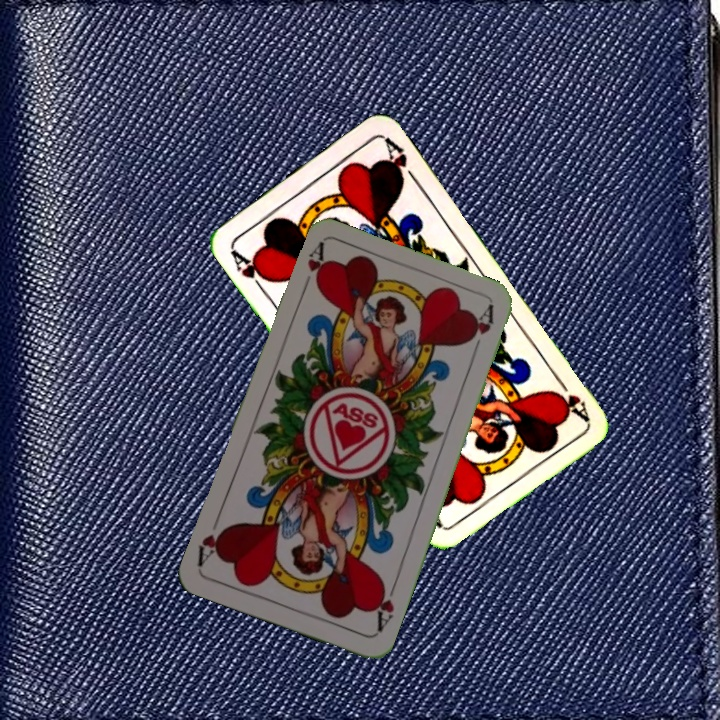HA: (225, 244, 274, 296), (548, 370, 591, 423), (297, 240, 330, 298), (369, 577, 399, 635)
